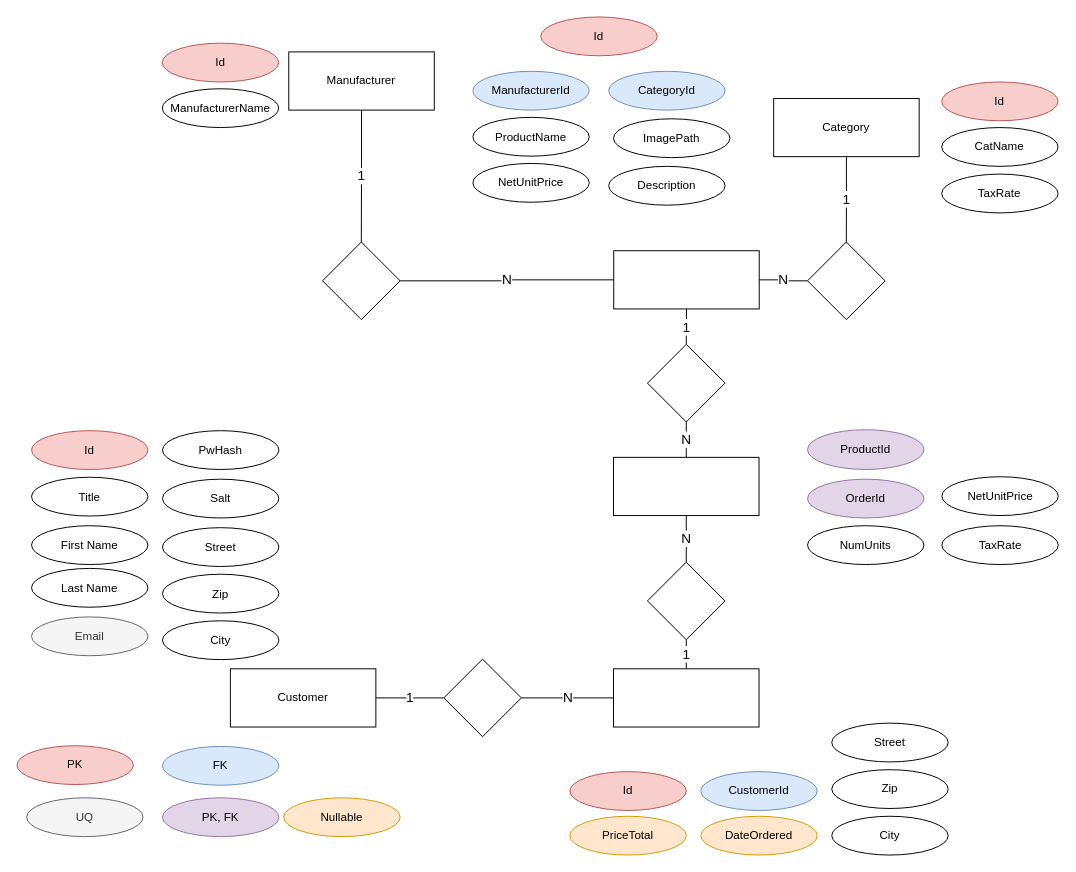
Image size: 1076x872. Some labels were removed from this diagram. The centre of each missing label's shape, as x and y in pixels:
"Order" belongs at point (686, 697).
"OrderLine" belongs at point (686, 486).
"Product" belongs at point (686, 279).
